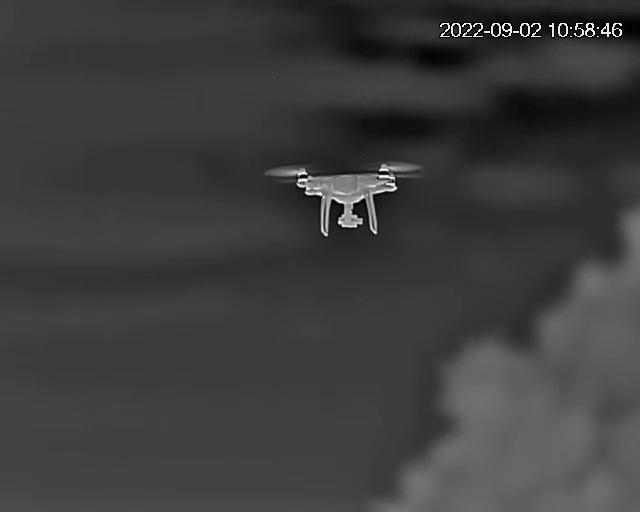DJI-Phantom: (267, 164, 422, 237)
